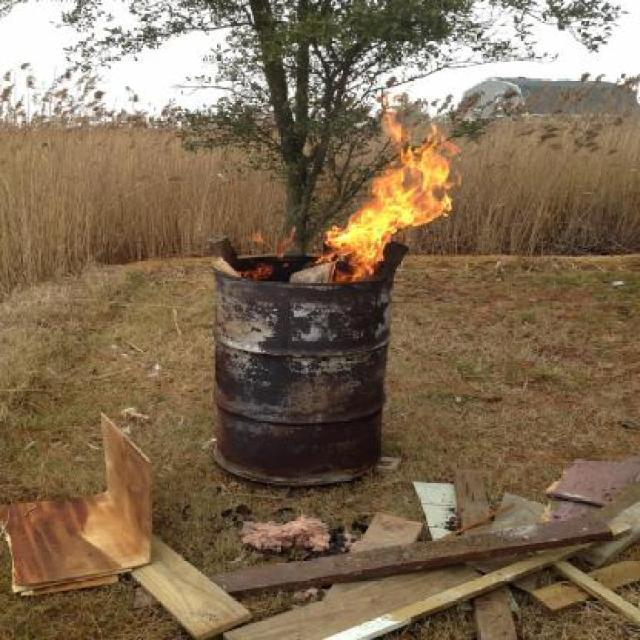Fire: (325, 104, 461, 280)
